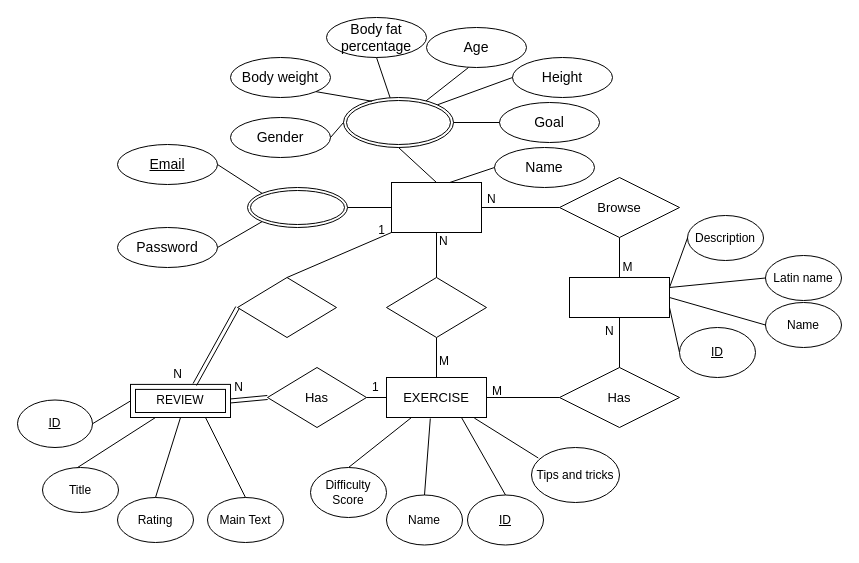
The diagram is 859 pixels wide and 563 high, and some of its shapes have lost their labels. Here are the shapes that lost their labels. From the top down, the box of each, then its label:
(342, 96, 454, 148): Personal body data
(246, 186, 348, 228): User credential
(390, 182, 482, 232): USER
(236, 276, 336, 338): creates
(386, 276, 486, 338): saves
(568, 276, 670, 318): MUSCLE
